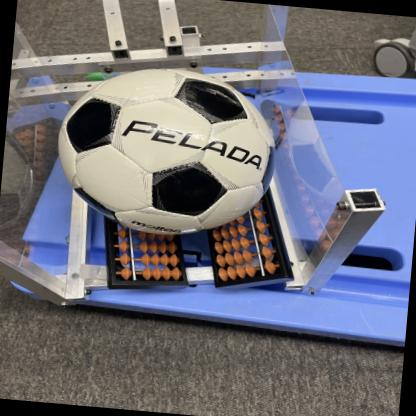ball: (51, 60, 283, 244)
